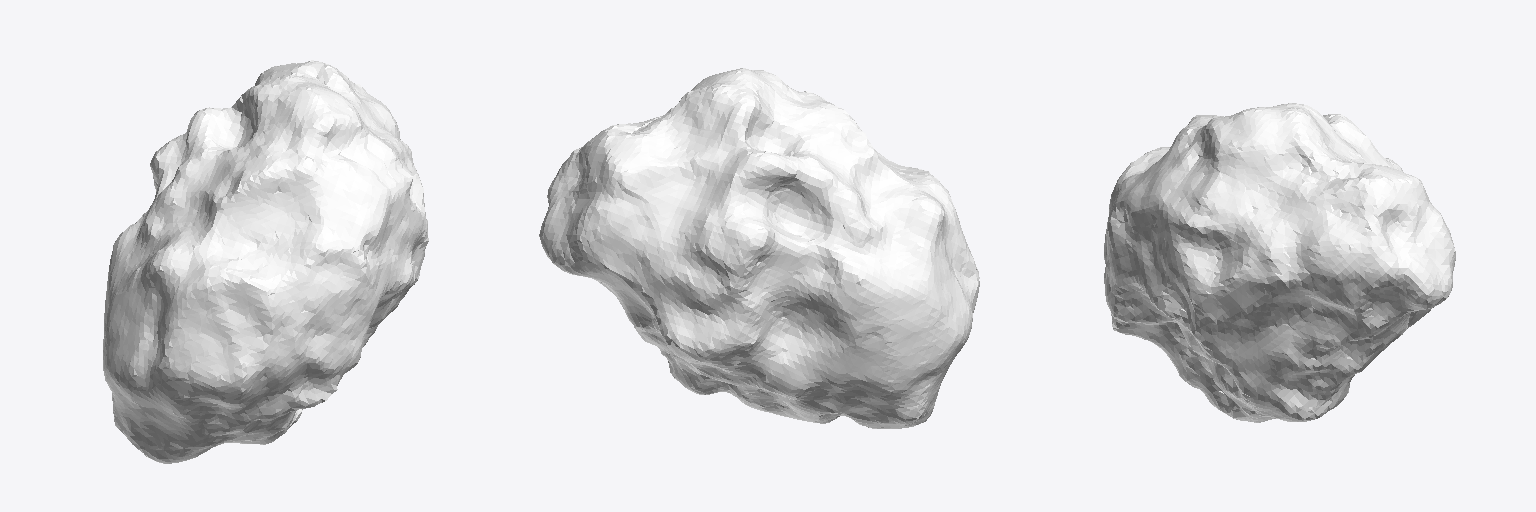
The model's file is asteroid4.obj.
3 renders of one model, left to right at view 1: azimuth 30°, elevation 25°; view 2: azimuth 150°, elevation 25°; view 3: azimuth 270°, elevation 25°, orthographic.
Visible parts, largest first — view 1: ASTEROID_LOW_POLY_4__asteroid_04; view 2: ASTEROID_LOW_POLY_4__asteroid_04; view 3: ASTEROID_LOW_POLY_4__asteroid_04.
Part boxes in pixels (left/top/right/bottom): ASTEROID_LOW_POLY_4__asteroid_04: left=103, top=60, right=428, bottom=463; ASTEROID_LOW_POLY_4__asteroid_04: left=539, top=68, right=979, bottom=428; ASTEROID_LOW_POLY_4__asteroid_04: left=1104, top=103, right=1455, bottom=422.
Bounding box in the file's own units: 1.56 × 1.47 × 1.41.